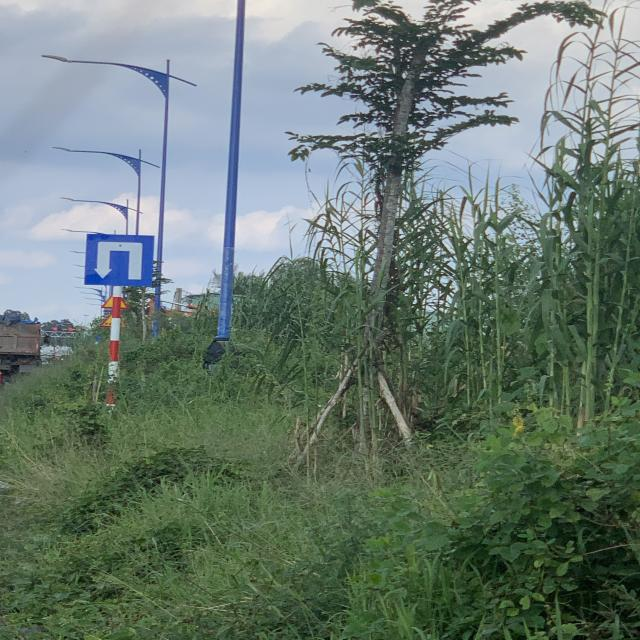Den_Giao_Thong: (85, 232, 156, 286)
